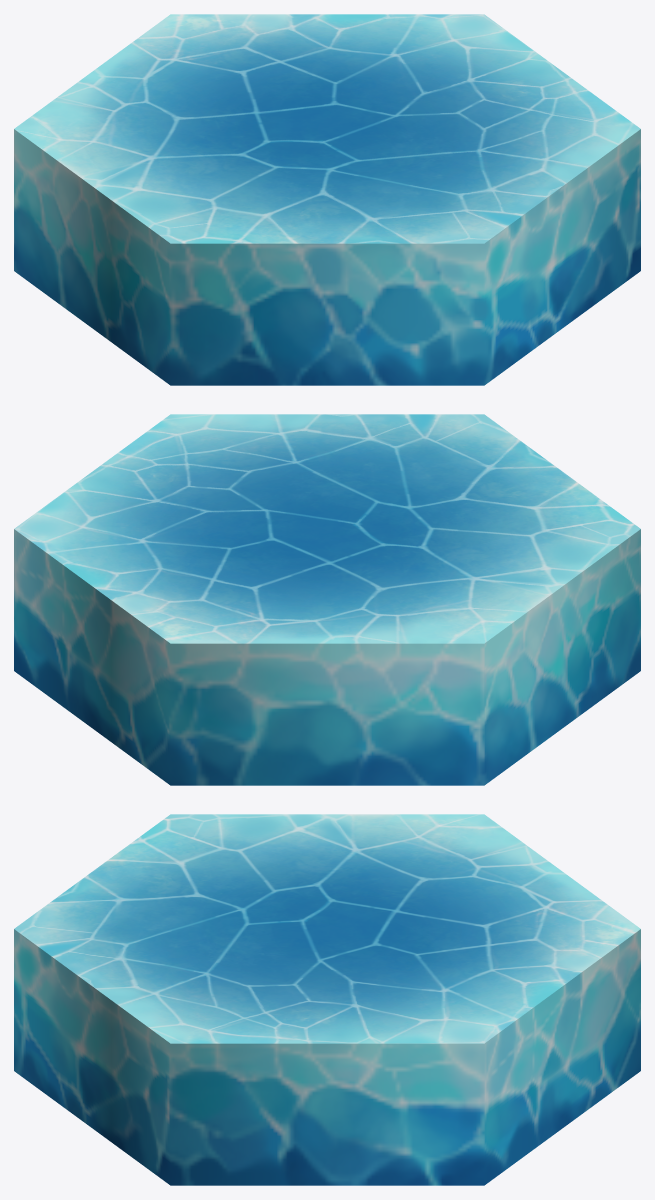
The model's file is Hexagon_Ice_01_001.FBX.
The picture shows the model from 3 angles, top to bottom: view 1: azimuth 30°, elevation 25°; view 2: azimuth 150°, elevation 25°; view 3: azimuth 270°, elevation 25°; orthographic projection.
Parts seen in each view (by area): view 1: Hexagon_Ice_01_001; view 2: Hexagon_Ice_01_001; view 3: Hexagon_Ice_01_001.
Part boxes in pixels (<box>): Hexagon_Ice_01_001: <box>14,14,640,385</box>; Hexagon_Ice_01_001: <box>14,414,640,785</box>; Hexagon_Ice_01_001: <box>14,814,640,1185</box>.
Size of the model in its own units: 6.93 by 2 by 8.
